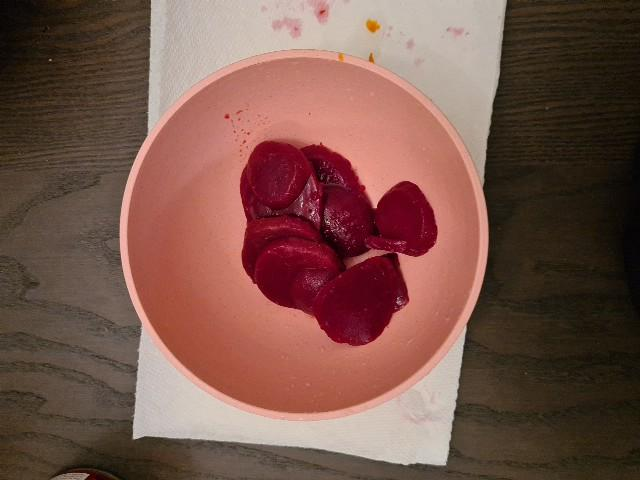kichen waste: (239, 140, 437, 345)
